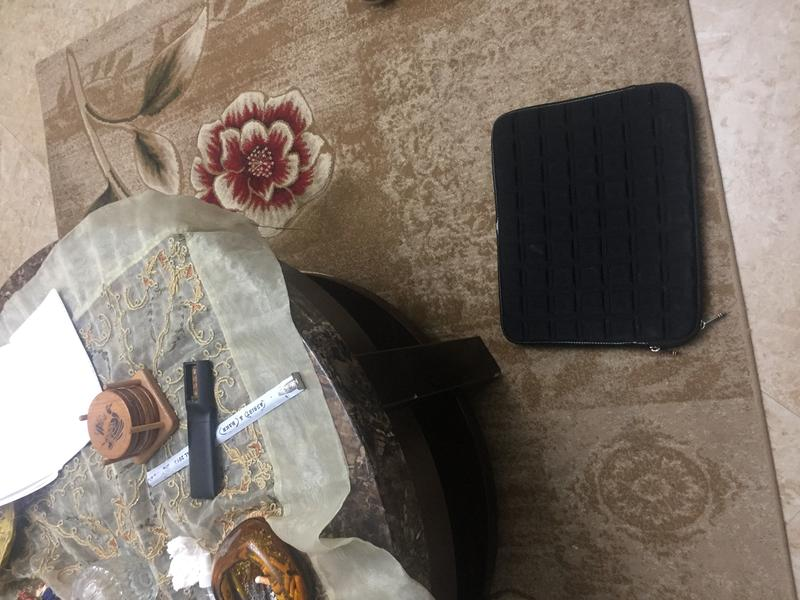cover: (483, 80, 728, 353)
